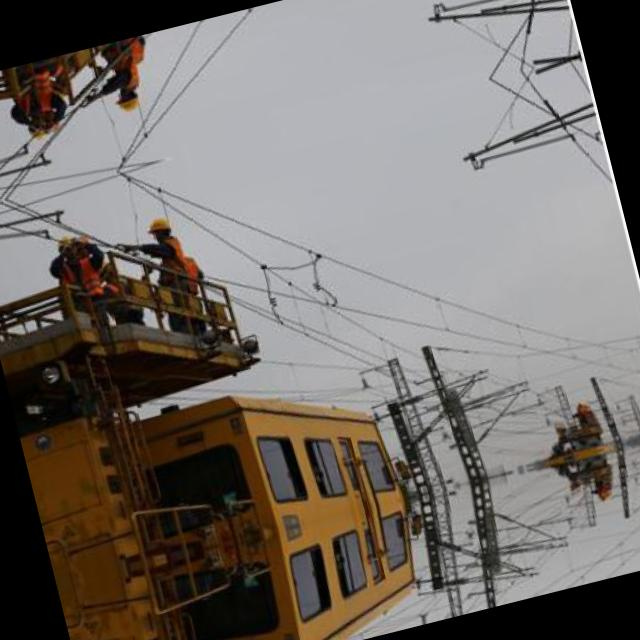helmet: (142, 210, 176, 247), (110, 82, 144, 118)
